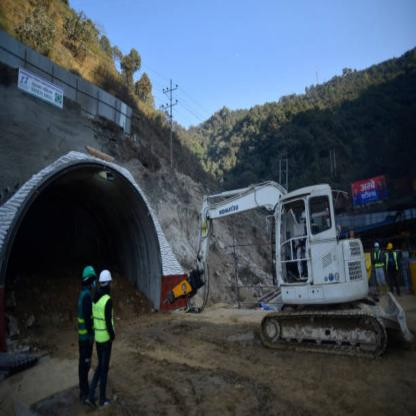excavator: (159, 172, 388, 358)
person: (92, 259, 114, 410), (76, 263, 92, 403), (384, 238, 401, 297), (372, 243, 386, 289)
